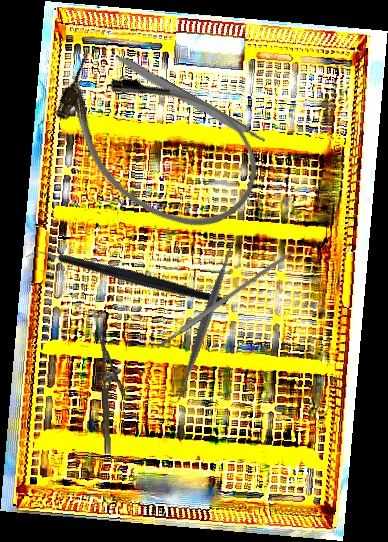Cannula: (31, 31, 281, 254)
Chopper: (22, 189, 230, 371)
Needle Holder: (98, 333, 128, 455)
Scalpel Handle: (112, 52, 267, 148), (154, 249, 295, 350)
Spatula Surgical: (121, 233, 292, 406)
